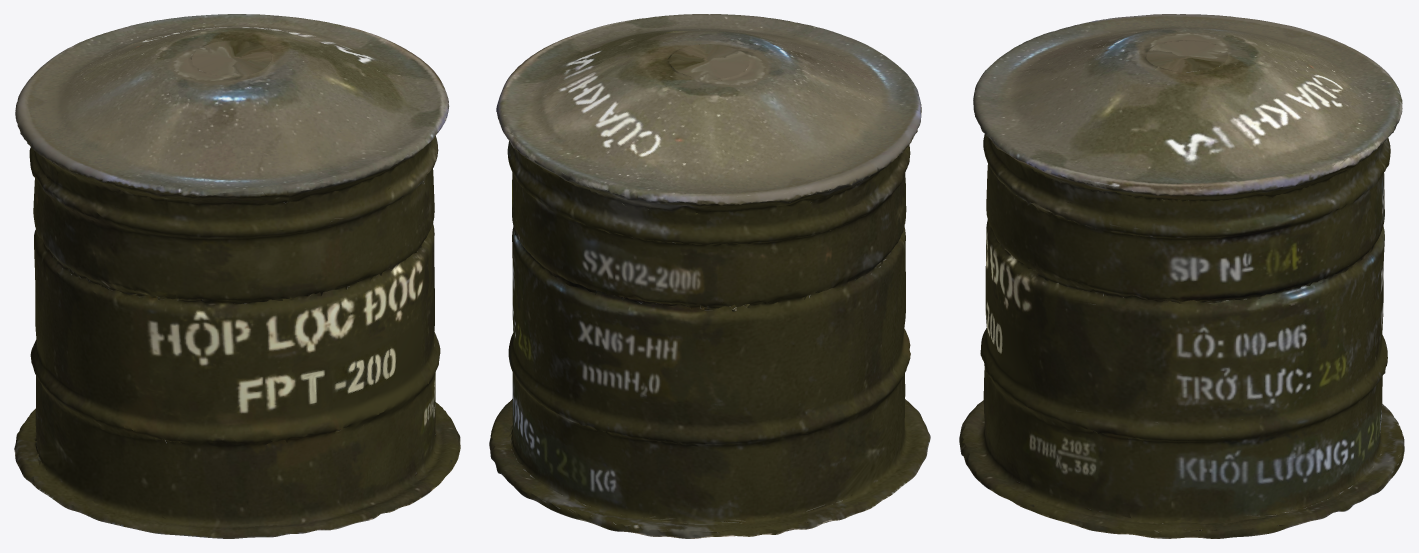
Rendered from 28- Hop loc FPT 200.glb.
3 renders of one model, left to right at view 1: azimuth 30°, elevation 25°; view 2: azimuth 150°, elevation 25°; view 3: azimuth 270°, elevation 25°, orthographic.
Visible parts, largest first — view 1: Polygonal_Model_1_27; view 2: Polygonal_Model_1_27; view 3: Polygonal_Model_1_27.
Boxes of the visible parts, <box> form: Polygonal_Model_1_27: <box>14,14,460,538</box>; Polygonal_Model_1_27: <box>489,14,930,538</box>; Polygonal_Model_1_27: <box>959,14,1404,538</box>.
Bounding box in the file's own units: 0.00882 × 0.00864 × 0.00886.
1 material, 1 textured.
